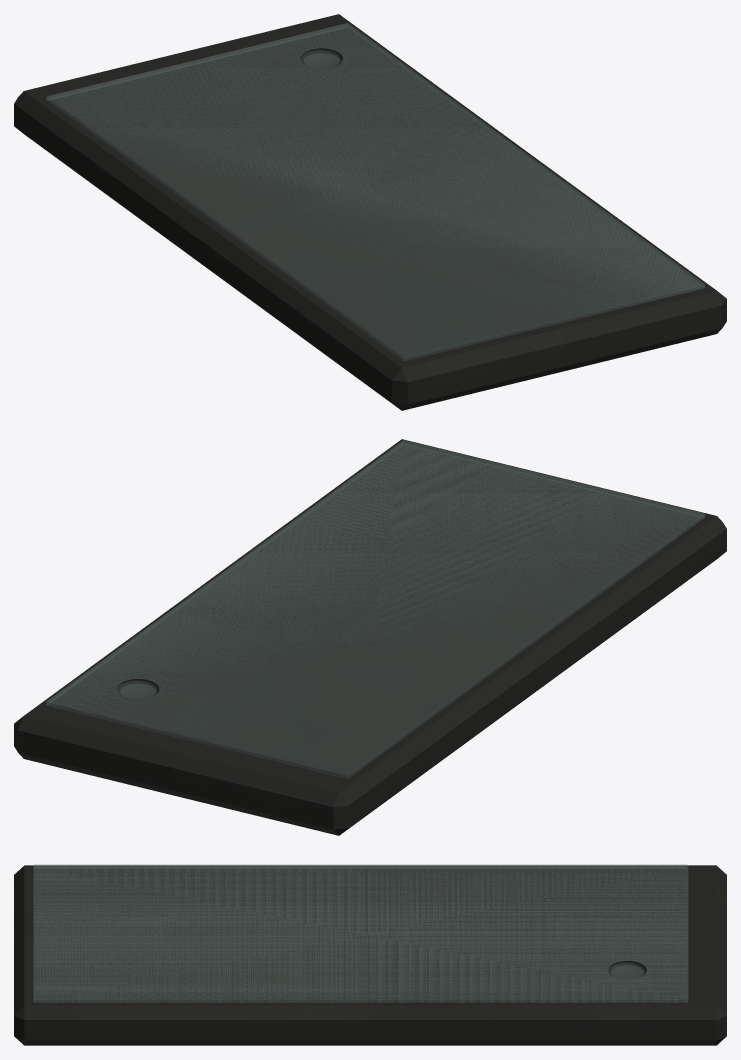
Rendered from phone.glb.
The picture shows the model from 3 angles, top to bottom: view 1: azimuth 30°, elevation 25°; view 2: azimuth 150°, elevation 25°; view 3: azimuth 270°, elevation 25°; orthographic projection. The views are drawn at different scales.
Parts seen in each view (by area): view 1: phone_Mesh; view 2: phone_Mesh; view 3: phone_Mesh.
Part boxes in pixels (x1,y1,x2,y2): phone_Mesh: [14, 14, 726, 410]; phone_Mesh: [14, 439, 726, 835]; phone_Mesh: [14, 864, 726, 1045].
Size of the model in its own units: 0.073 by 0.0115 by 0.147.
3 materials, 3 textured.
